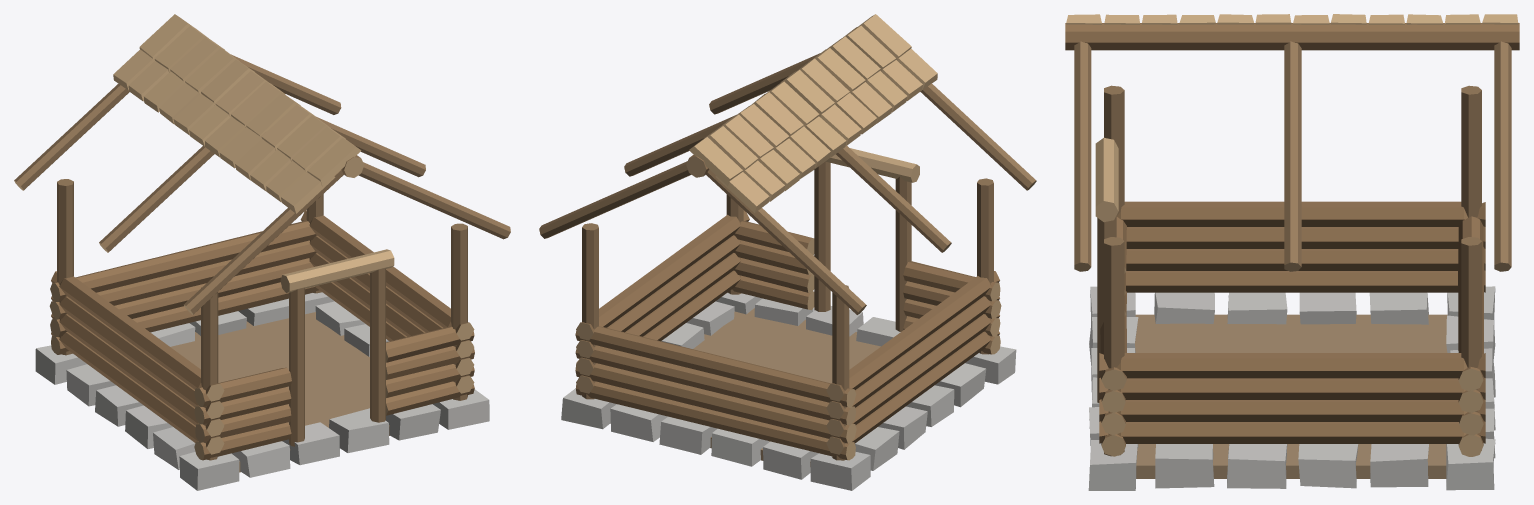
The model's file is building_forge_half.glb.
3 renders of one model, left to right at view 1: azimuth 30°, elevation 25°; view 2: azimuth 150°, elevation 25°; view 3: azimuth 270°, elevation 25°, orthographic. The views are drawn at different scales.
Visible parts, largest first — view 1: building_forge_half; view 2: building_forge_half; view 3: building_forge_half.
Part boxes in pixels (x1,y1,x2,y2): building_forge_half: (14,14,510,490); building_forge_half: (539,14,1036,490); building_forge_half: (1065,14,1519,490).
Bounding box in the file's own units: 3.84 × 3.57 × 3.76.
